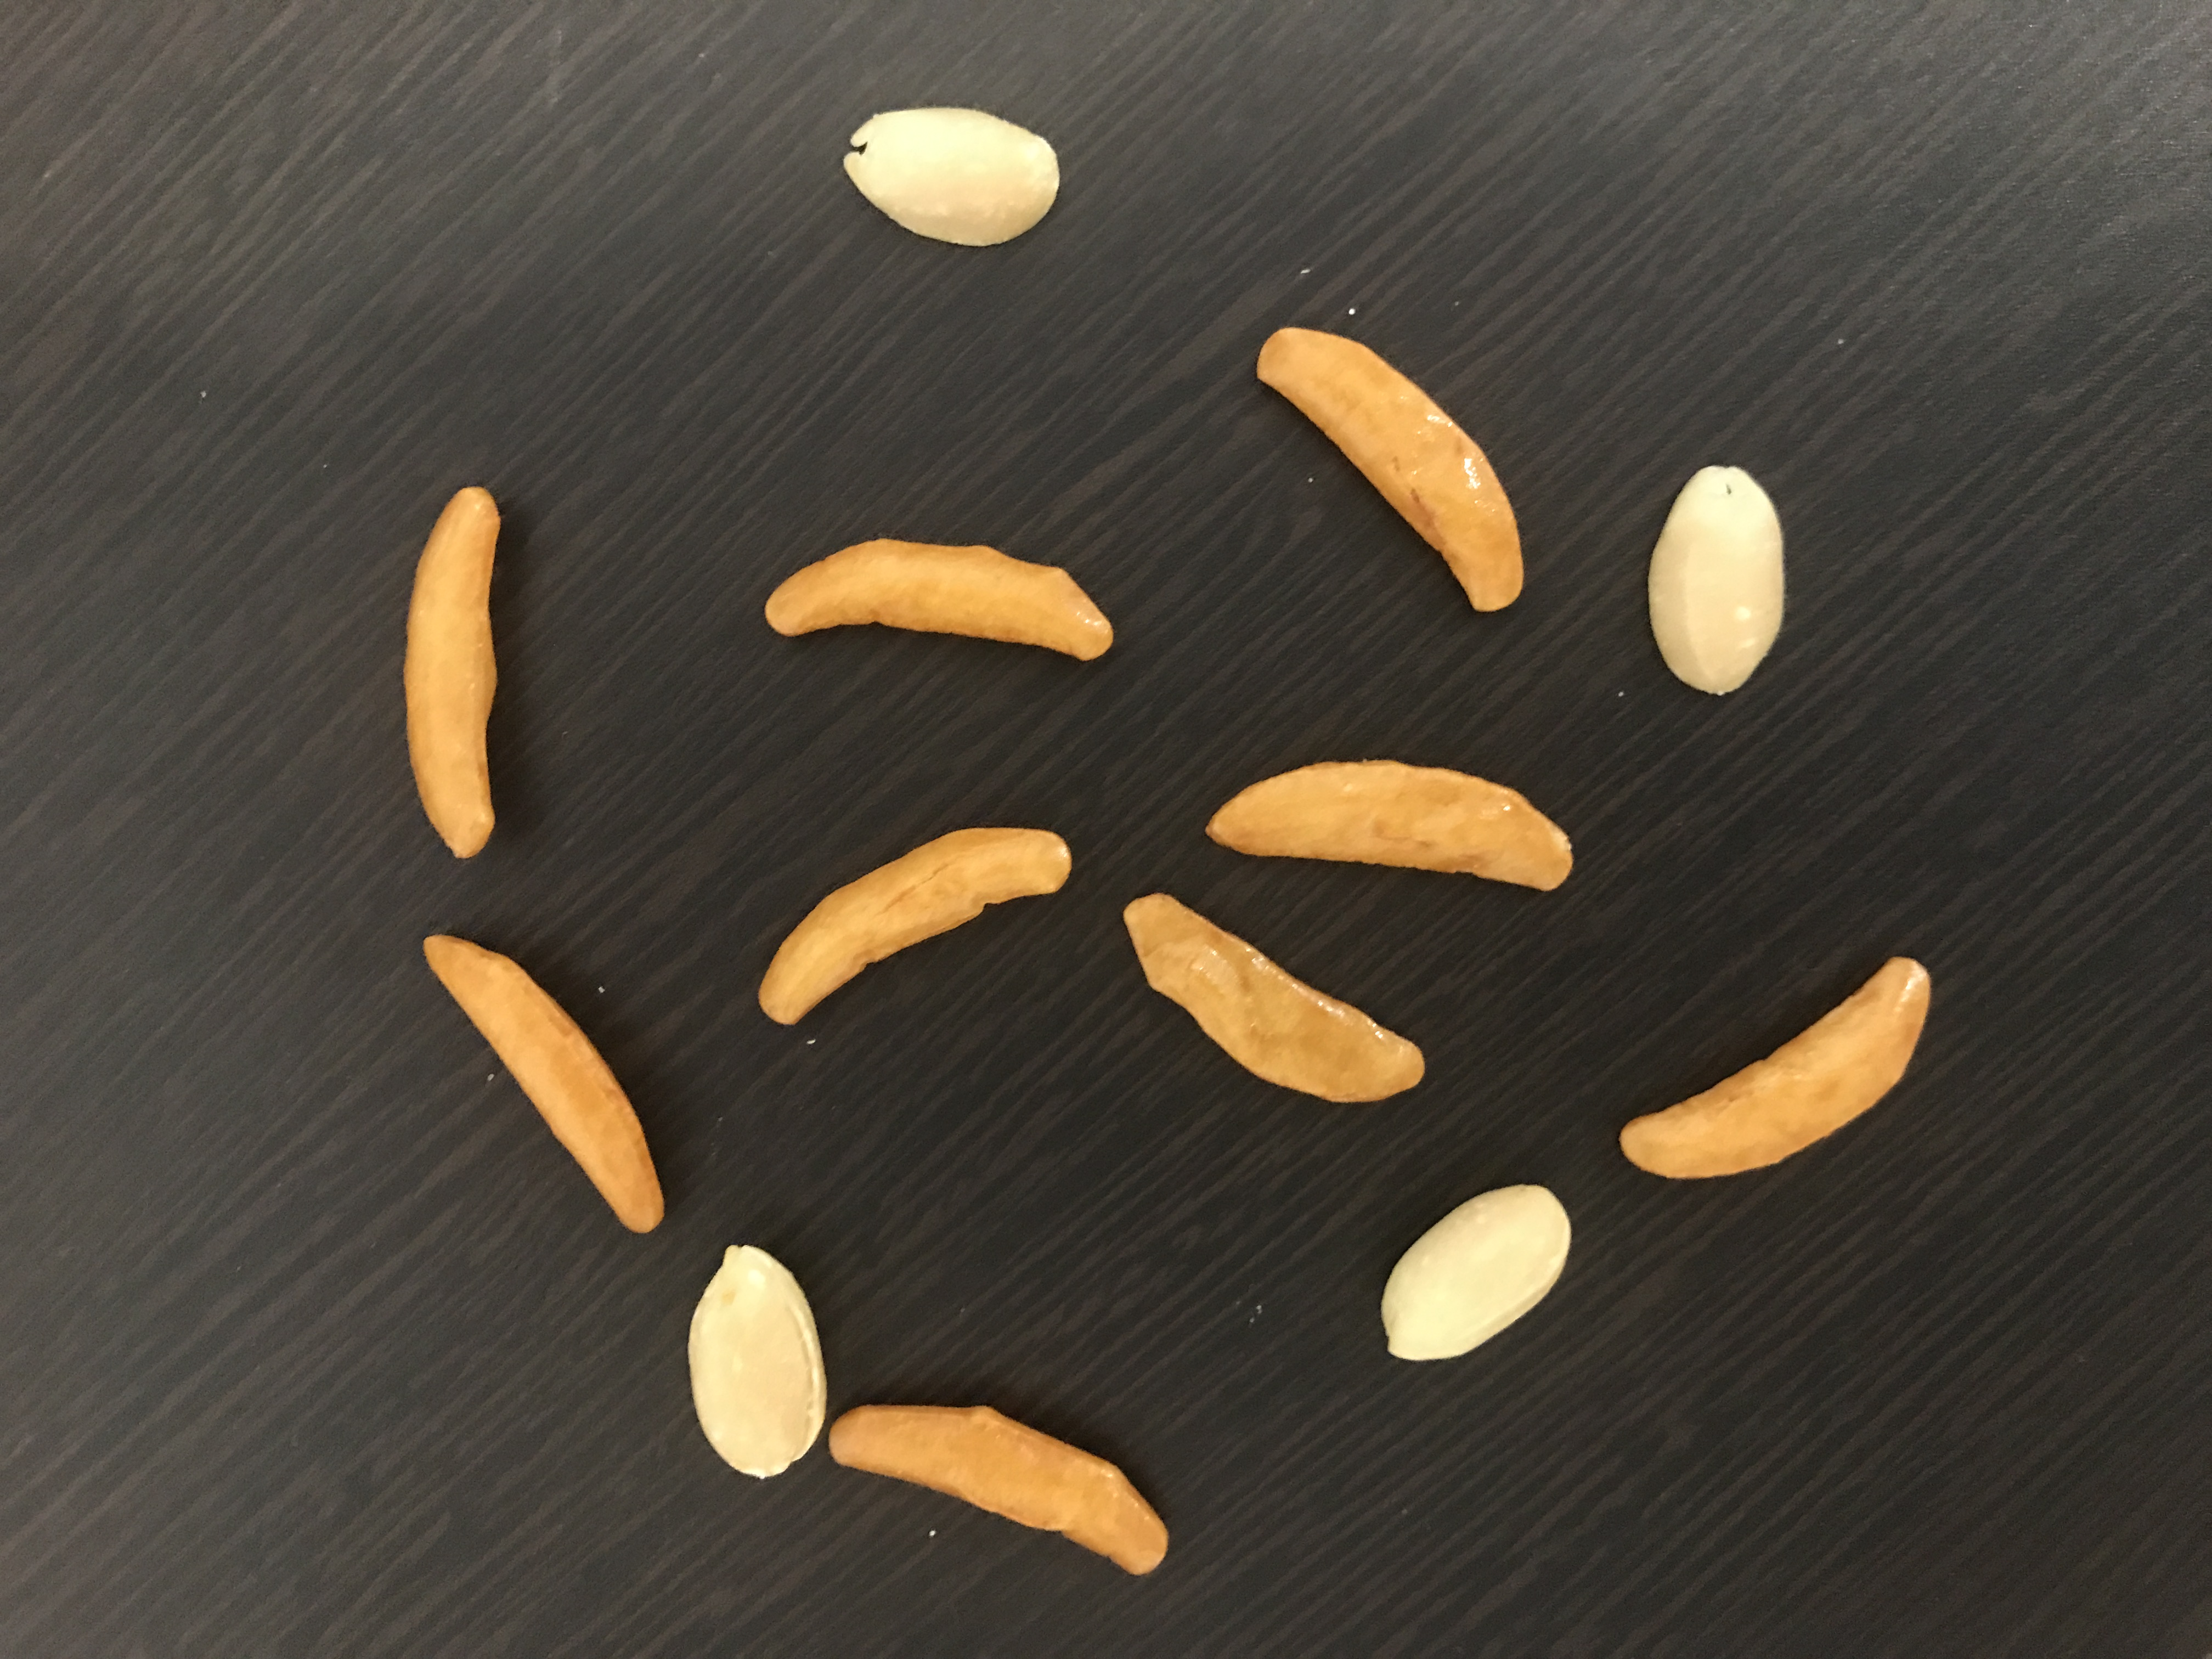peanut: (1371, 1171, 1588, 1370), (834, 92, 1066, 260), (681, 1239, 834, 1481), (1648, 458, 1799, 702)
